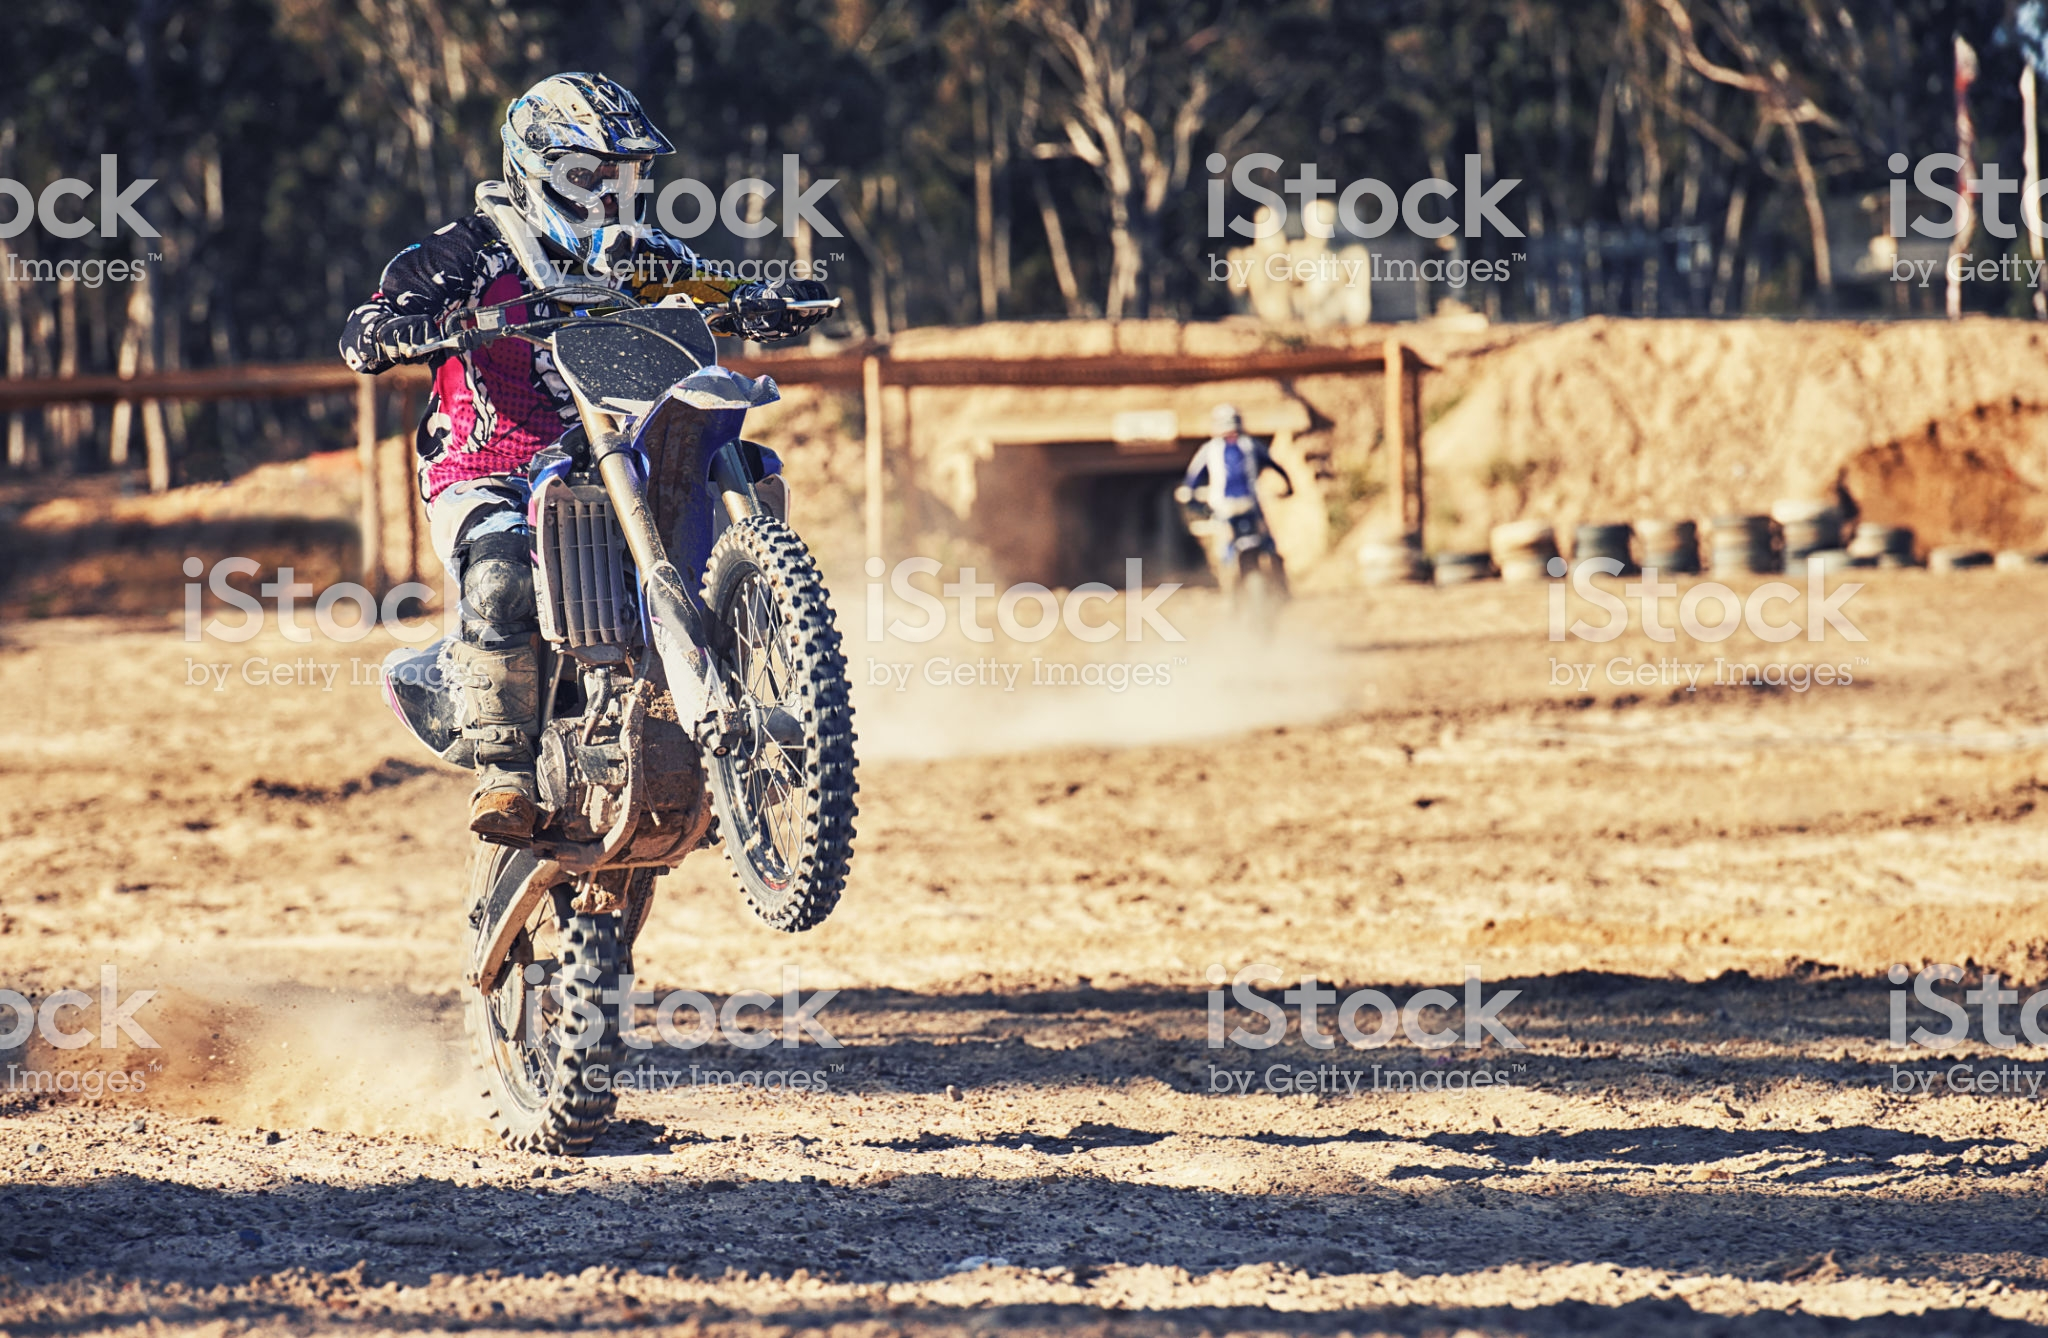helmet: (472, 61, 693, 252)
